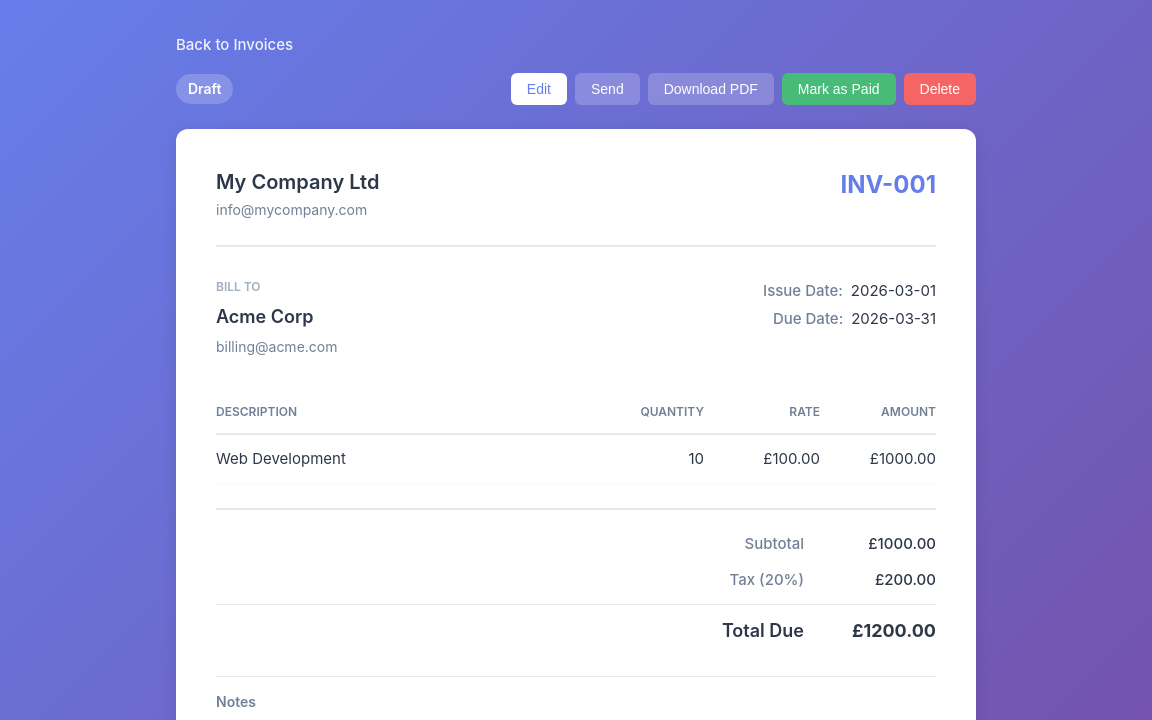
Test: InvoiceDetailComponent › should show sending state while email is being sent
Step 1. Click the button with class "btn-send" → click(607, 89), box [575,73,640,105]
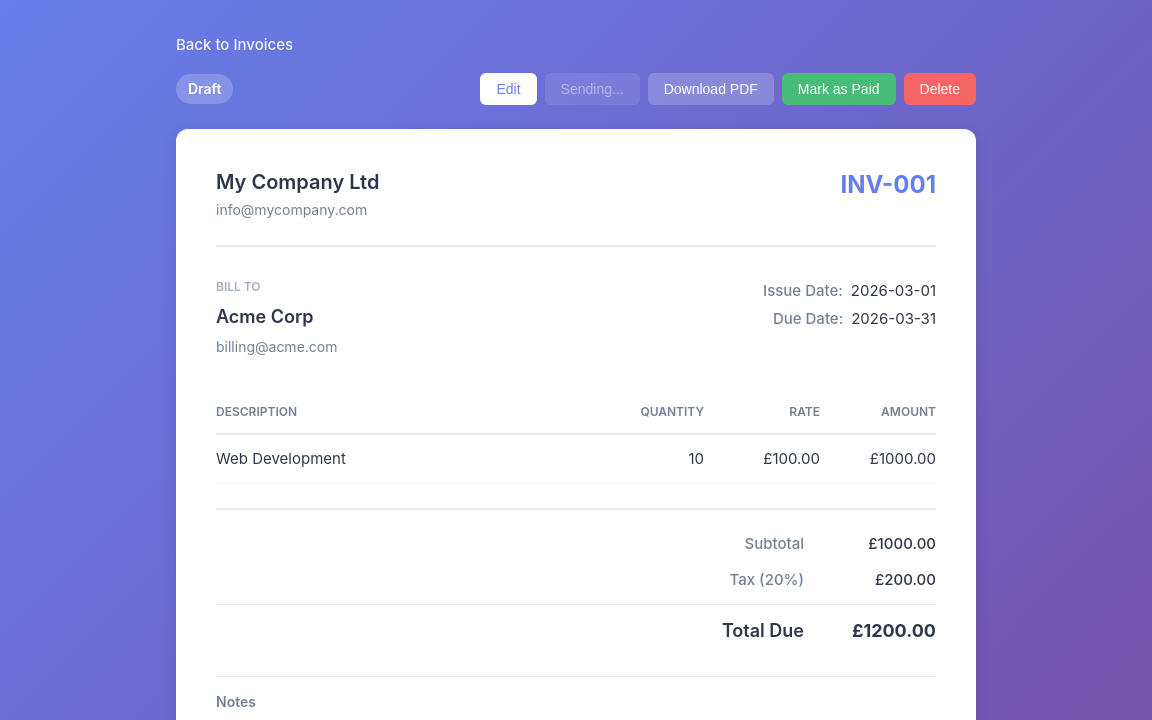
Now the button with class "btn-send" reads "Sending...", box [545,73,640,105]
